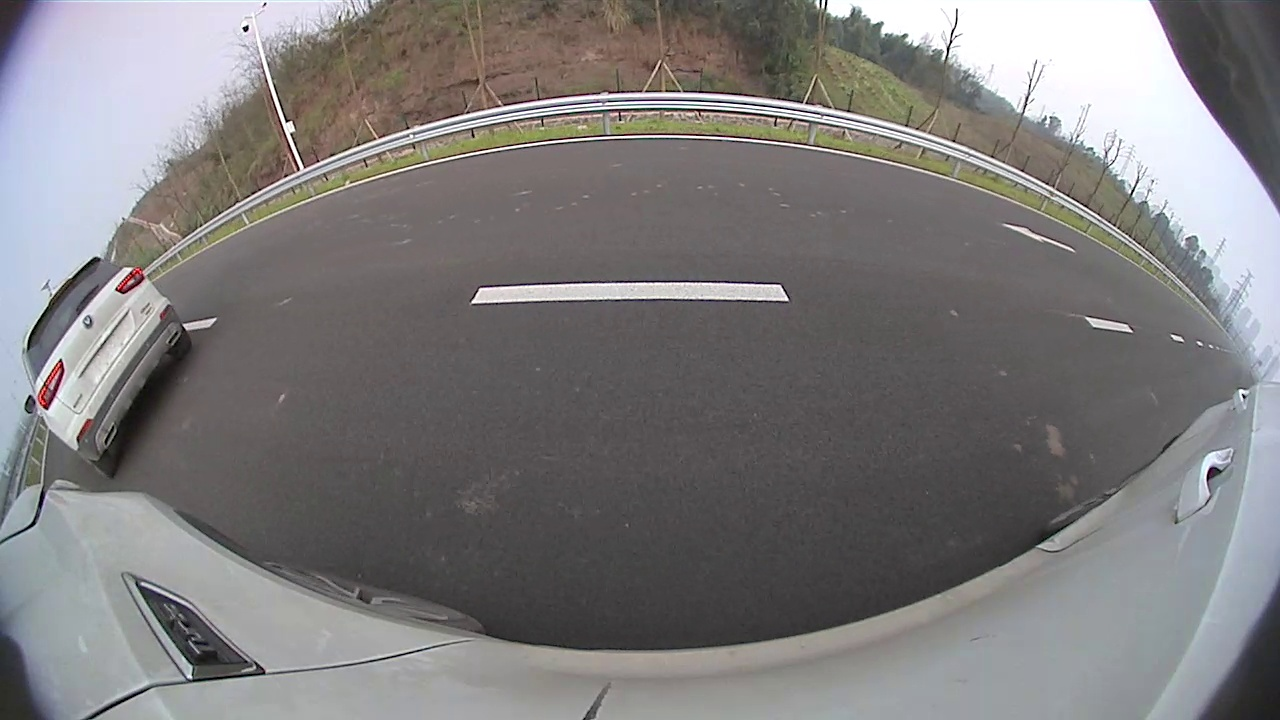car: (20, 256, 193, 479)
